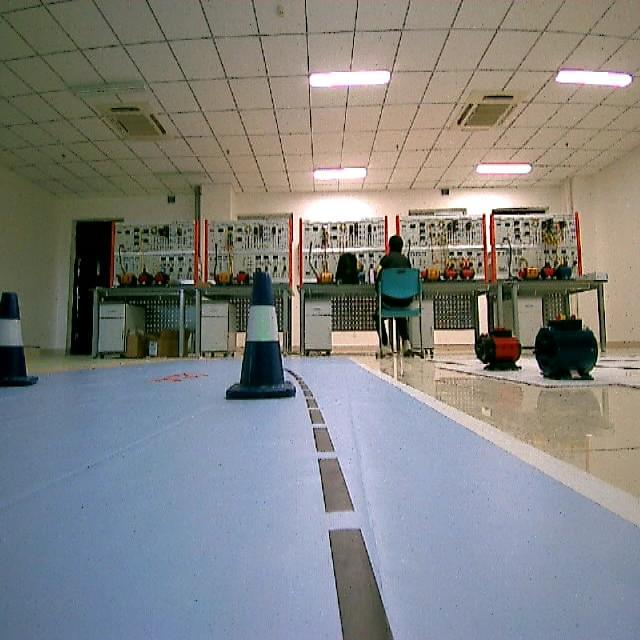obstacle: (210, 268, 312, 402), (0, 282, 45, 392)
